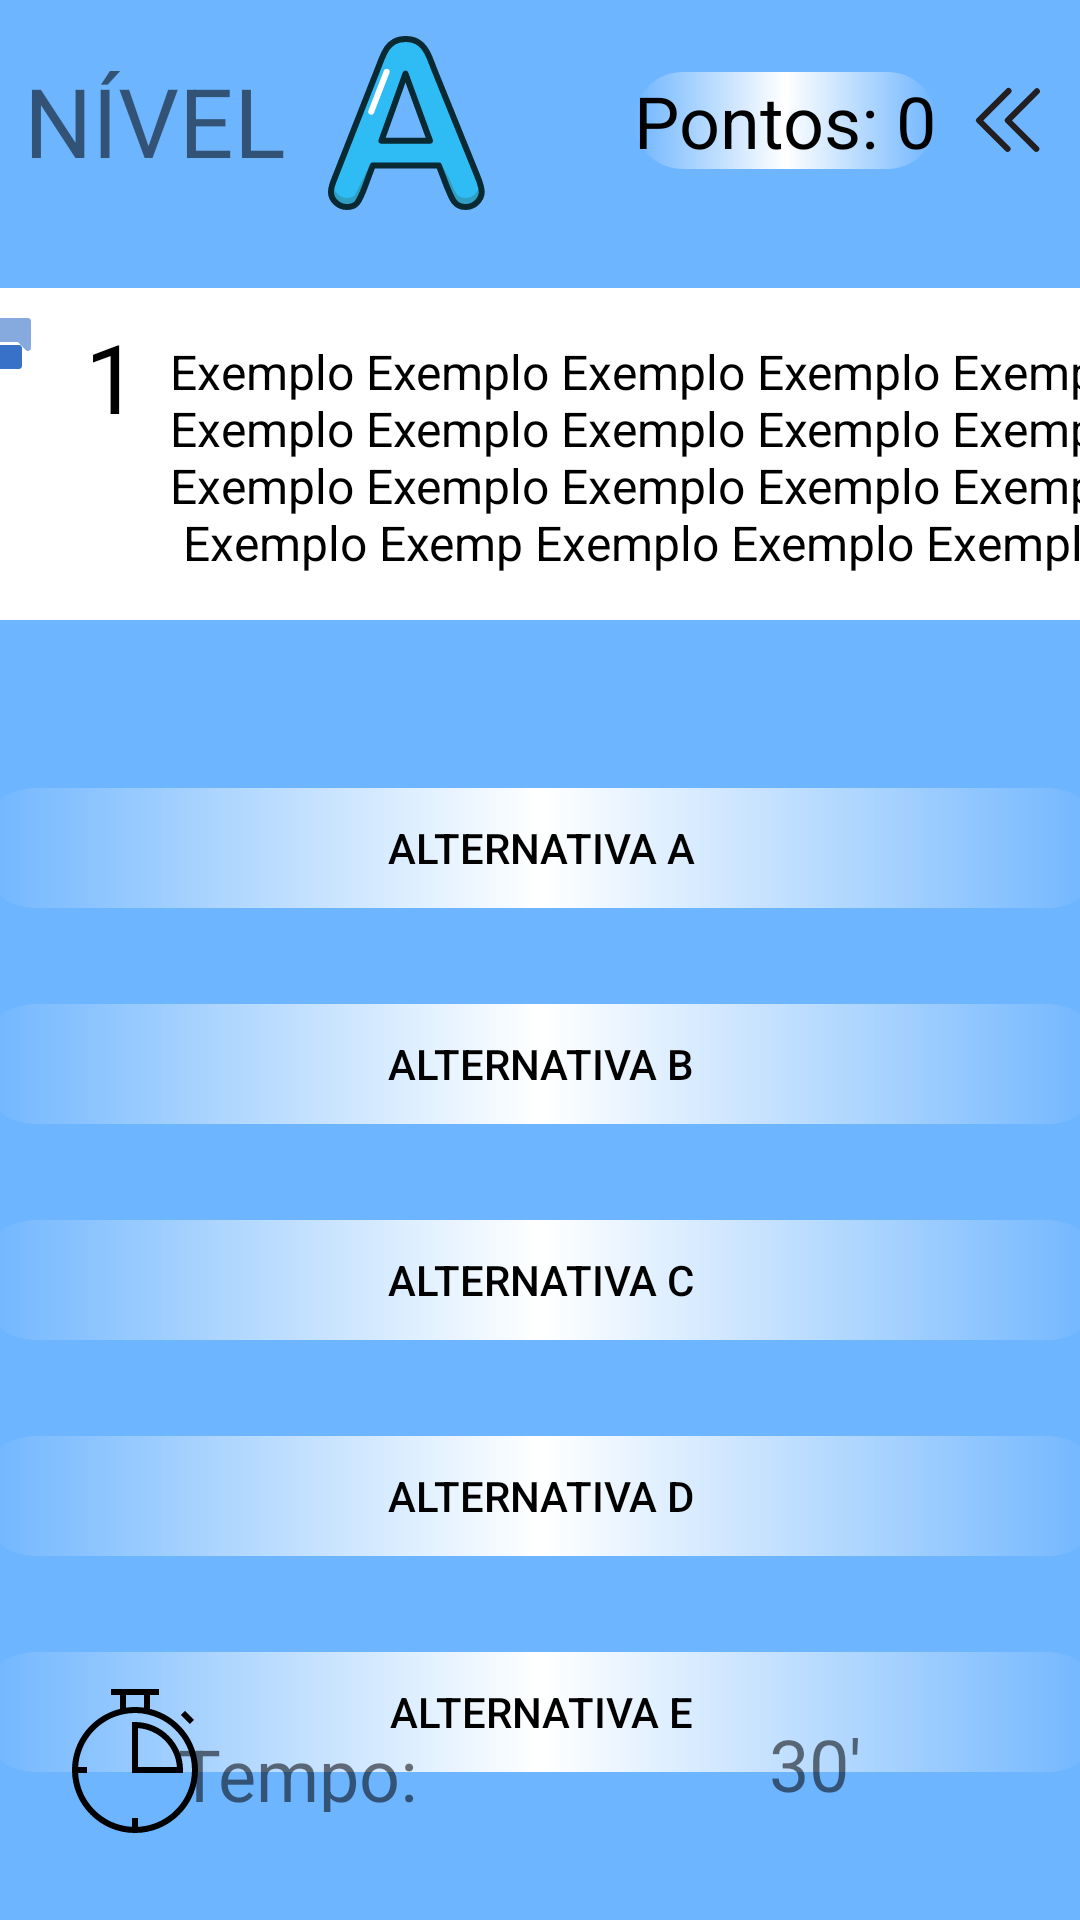

Screen size 1080 × 1920. Icon name, then its box in pixels as Rect(x1, y1, x2, y2):
back: Rect(975, 87, 1040, 152)
nivela: Rect(328, 36, 485, 210)
